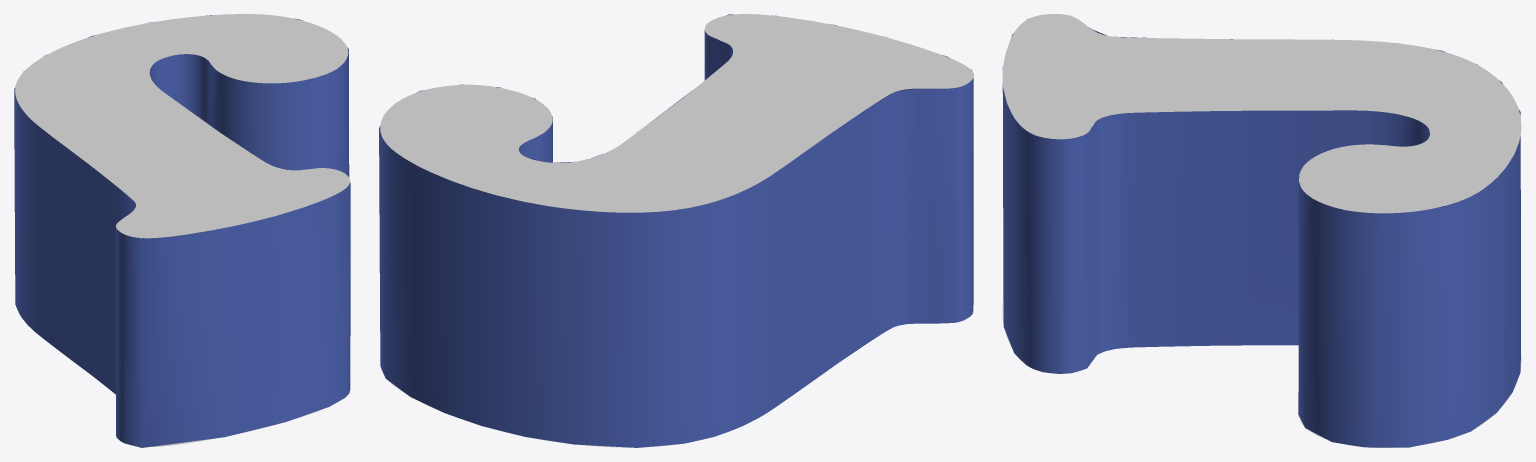
The picture shows the model from 3 angles, left to right: view 1: azimuth 30°, elevation 25°; view 2: azimuth 150°, elevation 25°; view 3: azimuth 270°, elevation 25°; orthographic projection. The views are drawn at different scales.
Visible parts, largest first — view 1: J; view 2: J; view 3: J.
Part boxes in pixels (x1,y1,x2,y2): J: [14, 14, 350, 447]; J: [379, 14, 973, 447]; J: [1002, 14, 1521, 447].
Size of the model in its own units: 1.34 by 0.736 by 1.48.
